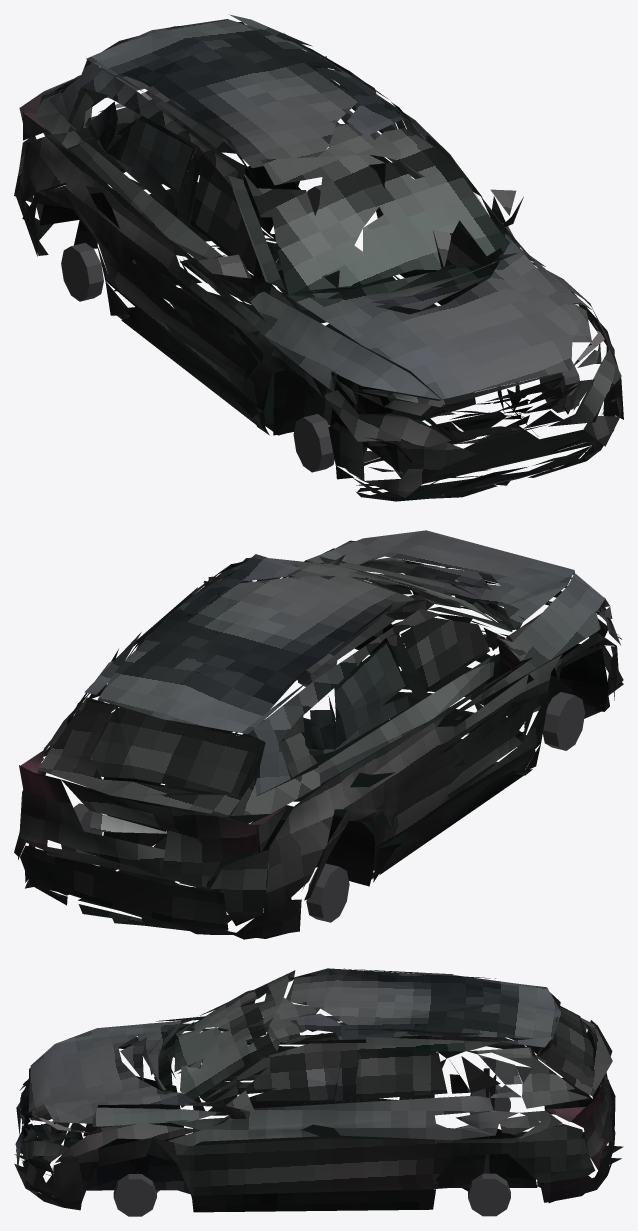
Rendered from suv_f.glb.
3 renders of one model, top to bottom at view 1: azimuth 30°, elevation 25°; view 2: azimuth 150°, elevation 25°; view 3: azimuth 270°, elevation 25°, orthographic. The views are drawn at different scales.
Visible parts, largest first — view 1: karosserie, rad_hl; view 2: karosserie, rad_hl; view 3: karosserie, rad_hl.
Part boxes in pixels (x1,y1,x2,y2): karosserie: (14, 14, 623, 501); rad_hl: (61, 185, 579, 472); karosserie: (14, 530, 623, 939); rad_hl: (61, 660, 584, 922); karosserie: (14, 968, 623, 1212); rad_hl: (113, 1084, 510, 1216).
Bounding box in the file's own units: 2.07 × 1.47 × 4.53.
Materials: 2 (1 with a texture image).
